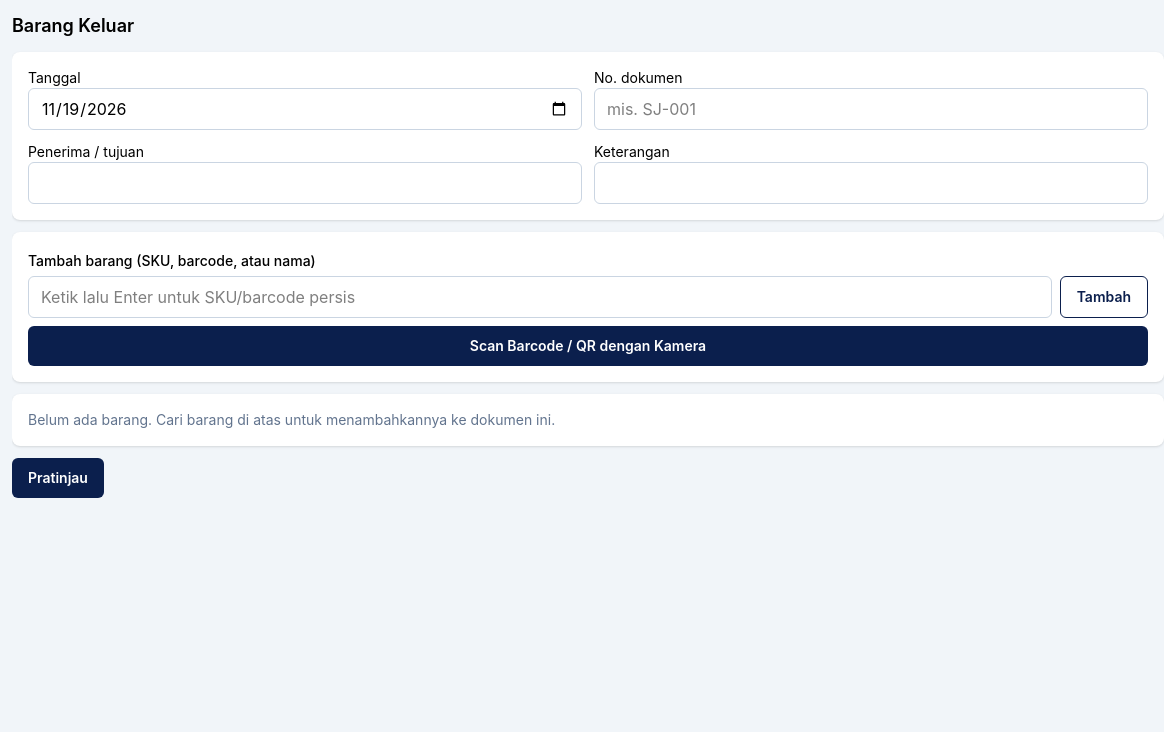
it: Barang Keluar: stok dan penolakan › SKU tidak ditemukan saat mengetik manual memberi notifikasi
Type "ZZZ" into the field labelled "Tambah barang (SKU, barcode, atau nama)" at (540, 297), box top-left (28, 276), bottom-right (1052, 318)
Then press Enter
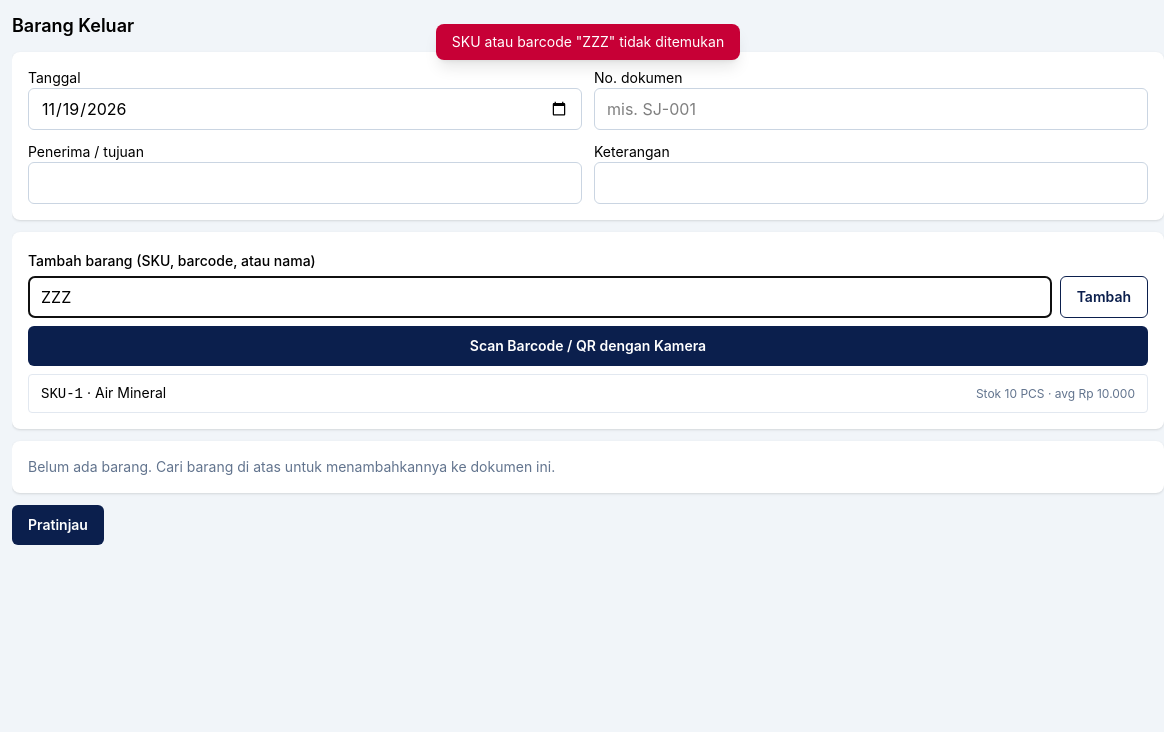
Expected: the text "SKU atau barcode \"ZZZ\" tidak ditemukan" is shown, top-left (436, 24), bottom-right (740, 60)
